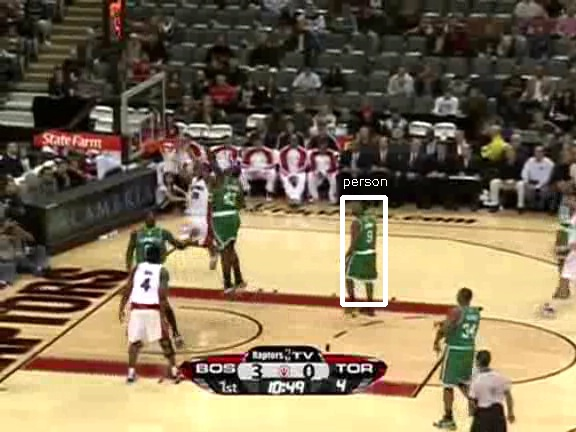person: (349, 210, 383, 291), (348, 210, 382, 291), (350, 210, 384, 291), (349, 209, 383, 290), (349, 211, 383, 292)
target_negative: (32, 37, 175, 398), (392, 201, 530, 285), (297, 83, 487, 136), (424, 45, 569, 61), (250, 177, 330, 204), (463, 412, 528, 418)
